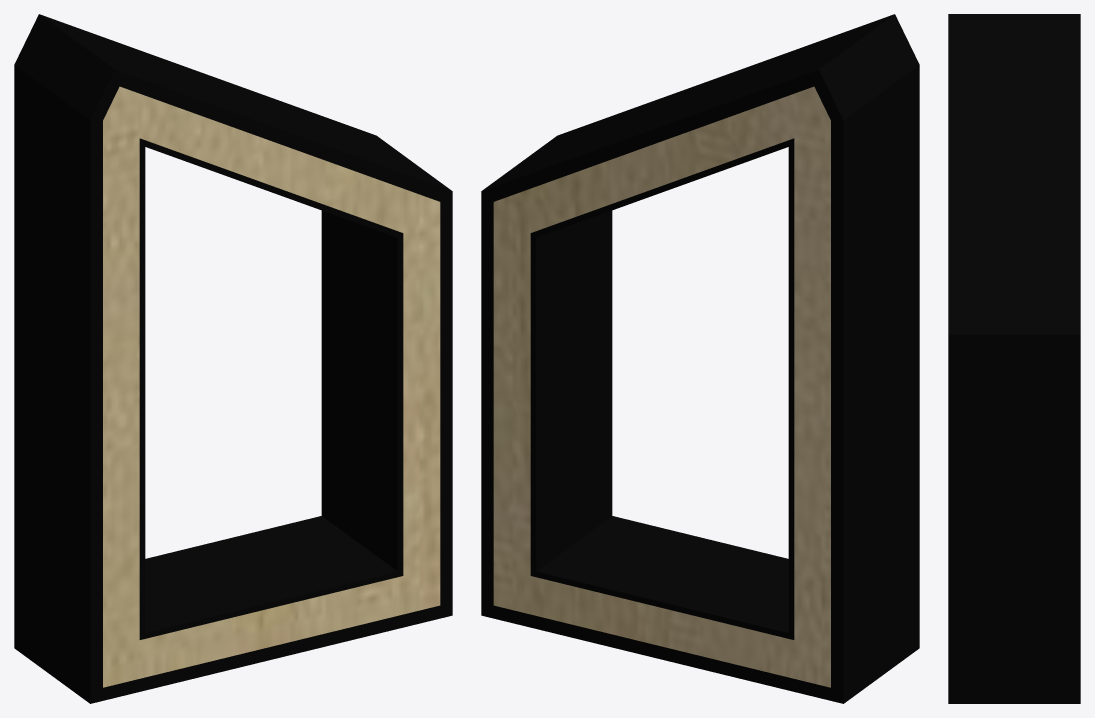
The picture shows the model from 3 angles, left to right: view 1: azimuth 30°, elevation 25°; view 2: azimuth 150°, elevation 25°; view 3: azimuth 270°, elevation 25°; orthographic projection. The views are drawn at different scales.
Parts seen in each view (by area): view 1: G-5; view 2: G-5; view 3: G-5.
Boxes of the visible parts, x1=… form: G-5: x1=14, y1=14, x2=452, y2=703; G-5: x1=481, y1=14, x2=919, y2=703; G-5: x1=948, y1=14, x2=1080, y2=703.
Size of the model in its own units: 3.3 by 5.47 by 1.2.
Materials: 2 (1 with a texture image).
